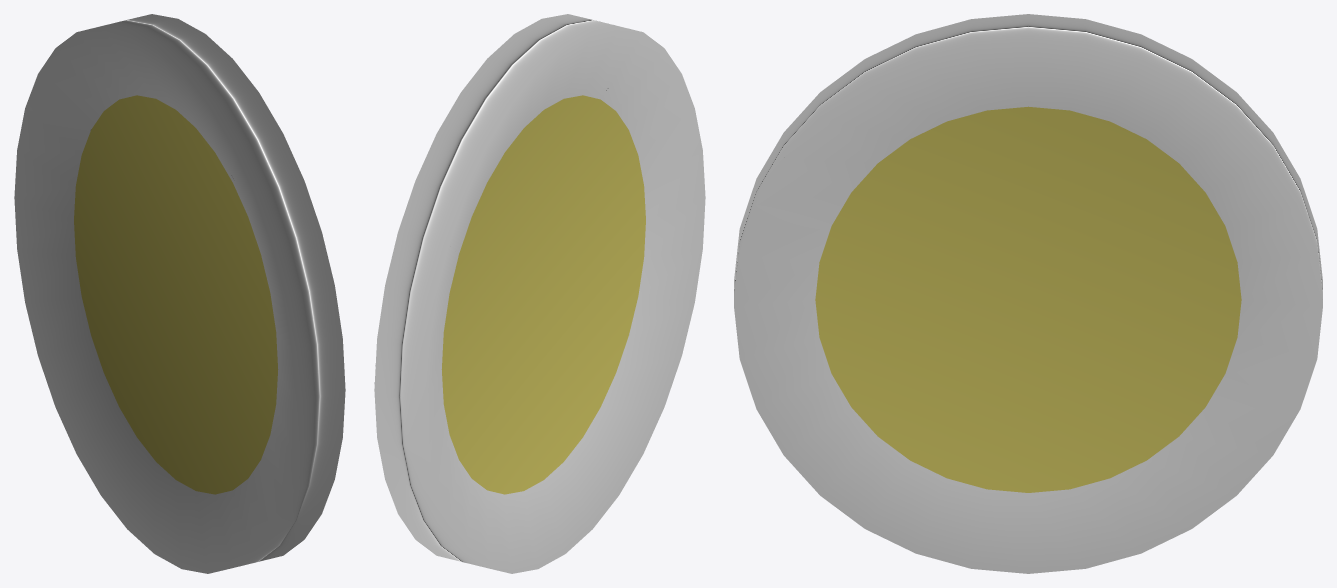
Rendered from treasure1.fbx.
3 renders of one model, left to right at view 1: azimuth 30°, elevation 25°; view 2: azimuth 150°, elevation 25°; view 3: azimuth 270°, elevation 25°, orthographic. The views are drawn at different scales.
Visible parts, largest first — view 1: Cylinder; view 2: Cylinder; view 3: Cylinder.
Boxes of the visible parts, <box> form: Cylinder: <box>14,14,345,573</box>; Cylinder: <box>374,14,705,573</box>; Cylinder: <box>734,14,1322,573</box>.
Size of the model in its own units: 16 by 152 by 152.
1 material, 1 textured.
